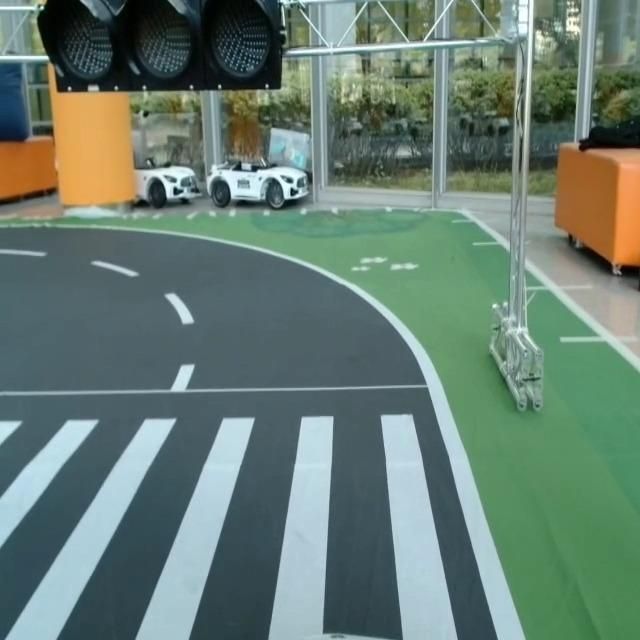traffic-light: (34, 0, 290, 94)
